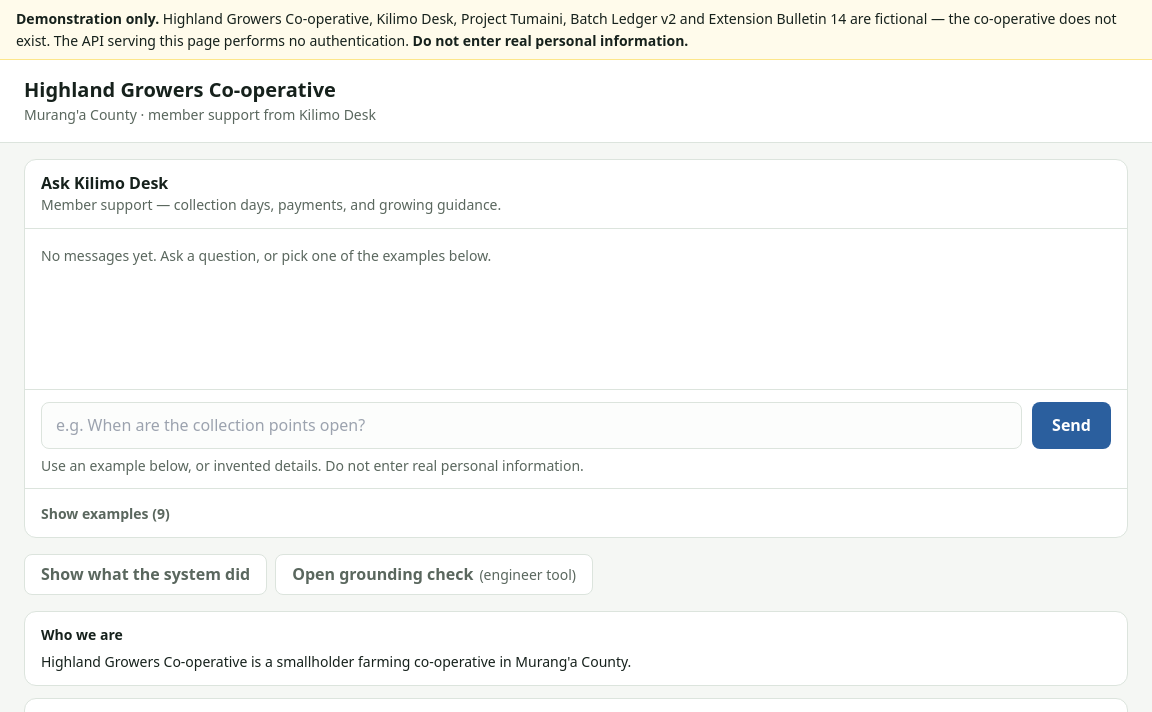
Test: one request, two views › replaces the co-op sections rather than stacking below them
This screenshot has width=1152, height=712.
Click the button "Show what the system did". click: coordinates (146, 574)
box: x1=24 y1=554 x2=267 y2=595
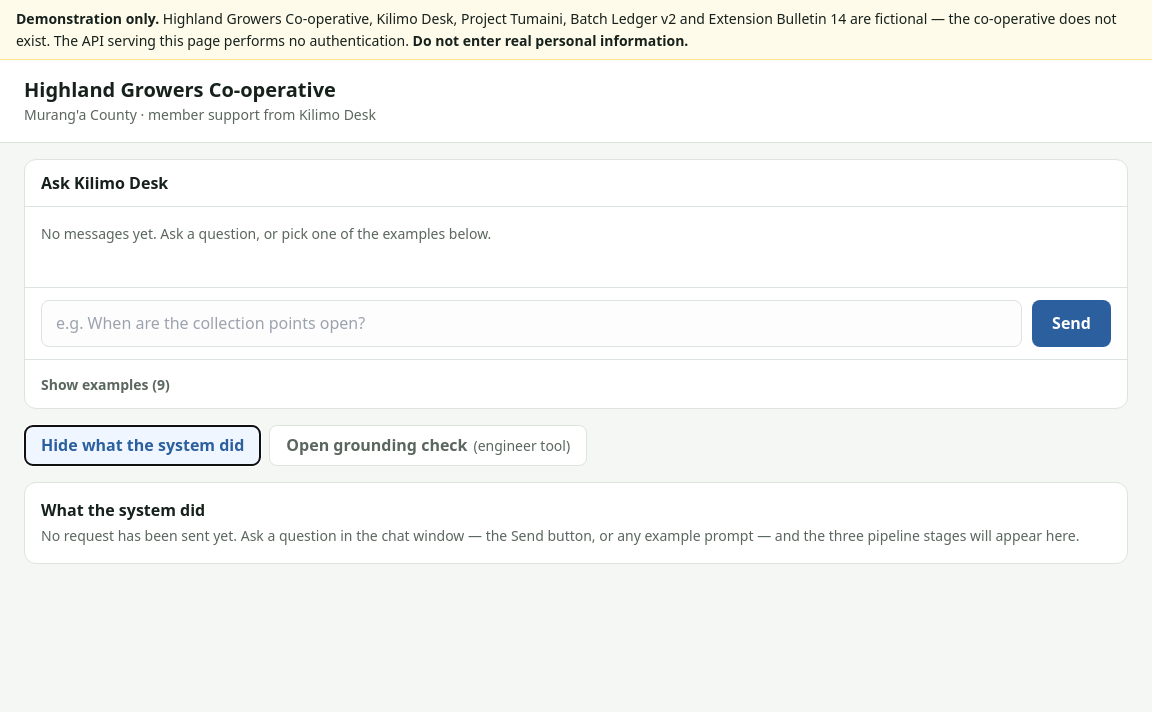
expect the heading "What the system did" is shown: met, box x1=41 y1=499 x2=205 y2=521
